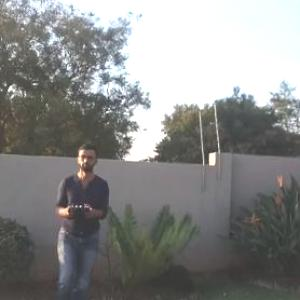follow: (45, 129, 111, 299)
